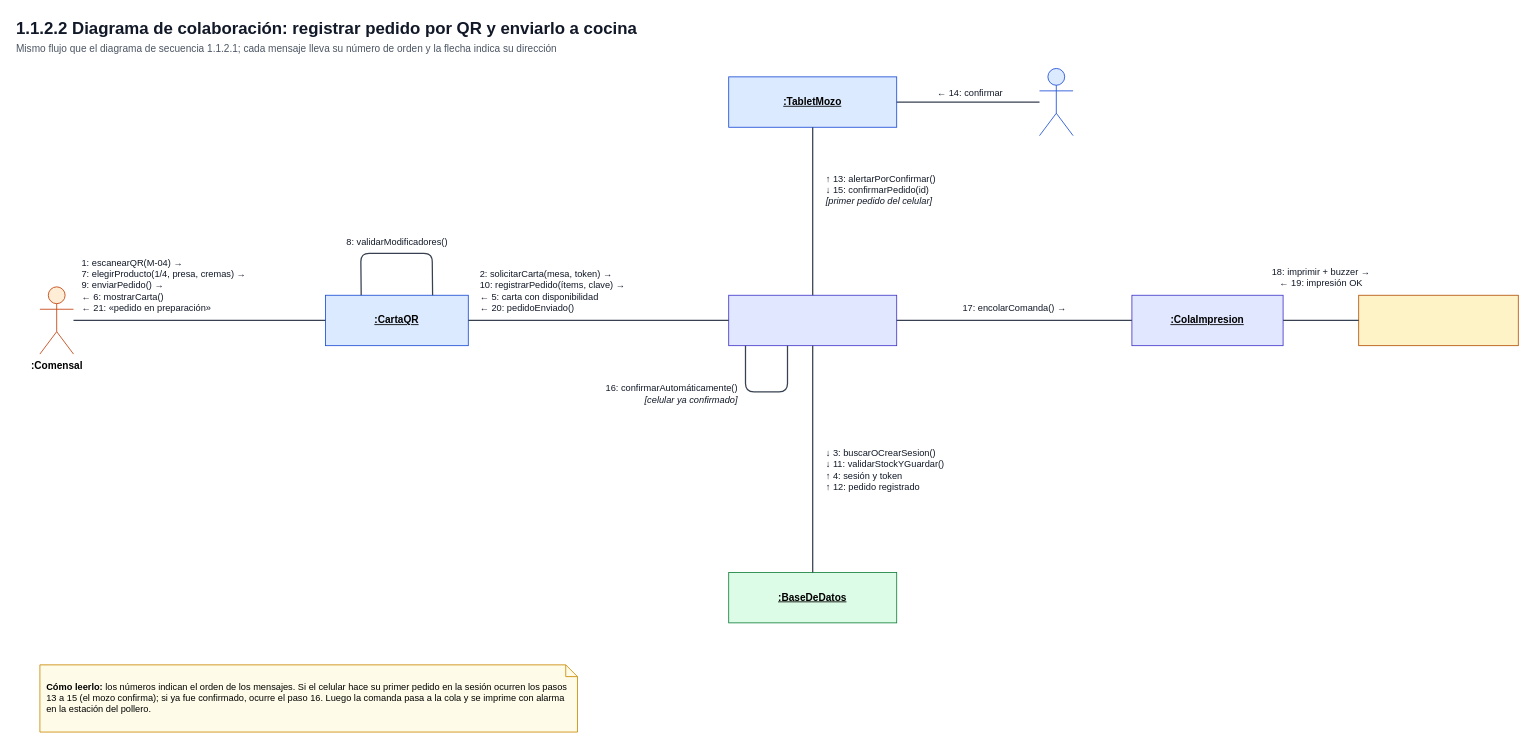
Image size: 1533x747. Some labels were removed from this diagram. Here are the shapes that lost their labels. From the top down, the centre of each, then its label:
At (x=1056, y=102): ":Mozo".
At (x=812, y=320): ":ApiServidorLocal".
At (x=1438, y=320): ":TicketeraPollero".
